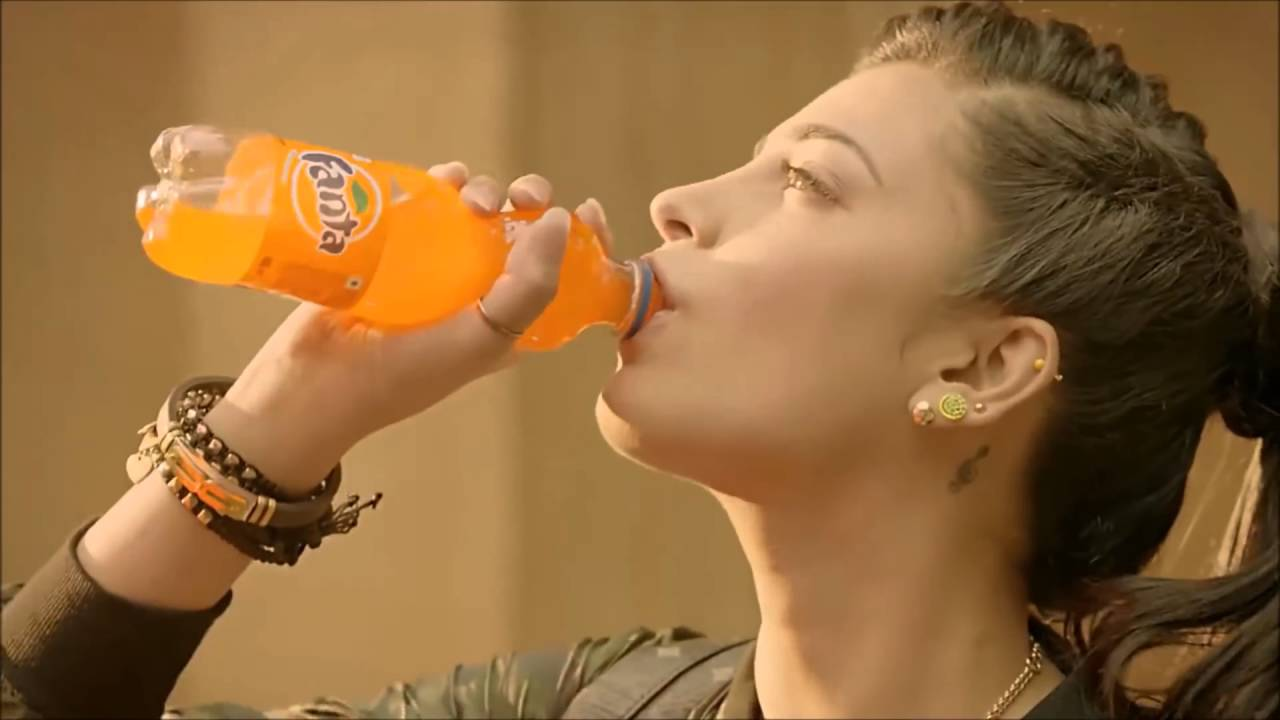fanta: (148, 129, 631, 341)
